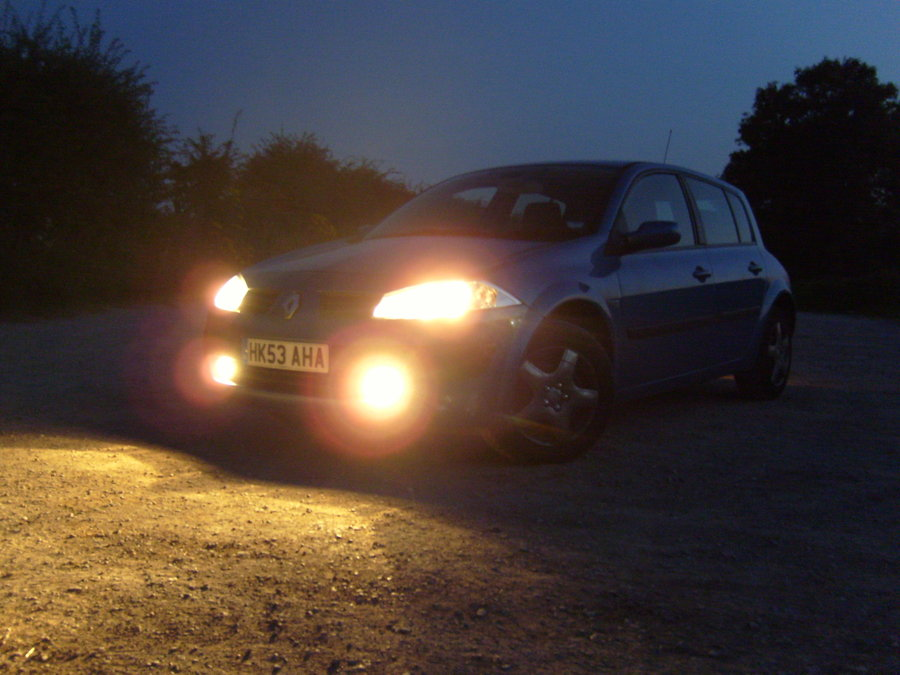car: (186, 146, 814, 478)
